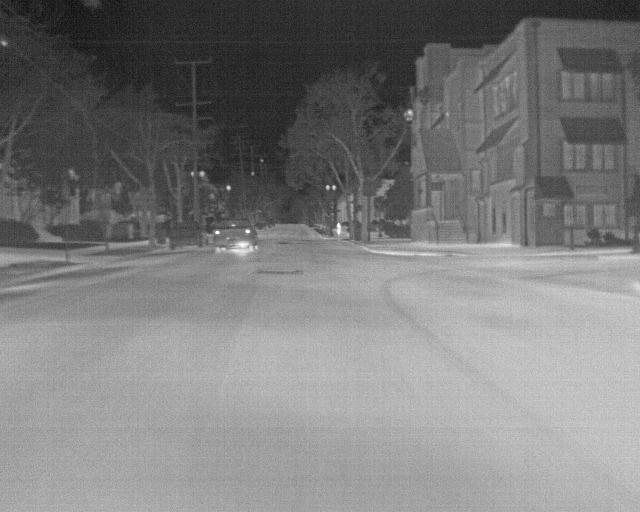car: (211, 214, 259, 256), (168, 220, 206, 250), (254, 218, 269, 232)
